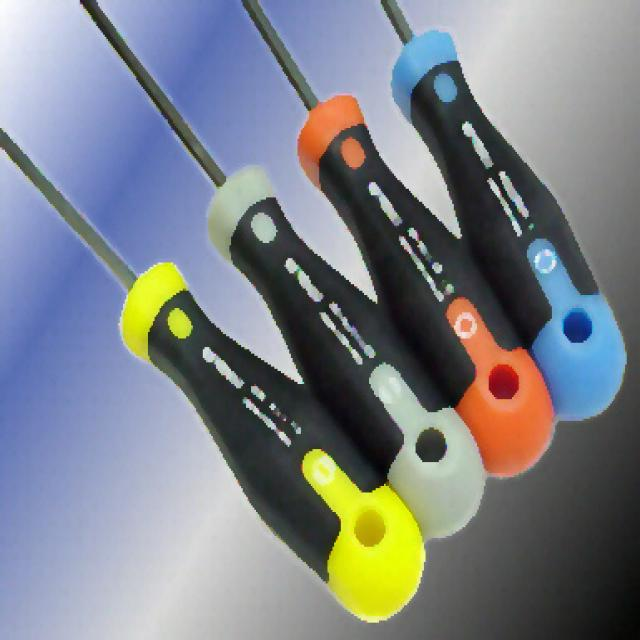screw driver: (0, 0, 437, 616)
